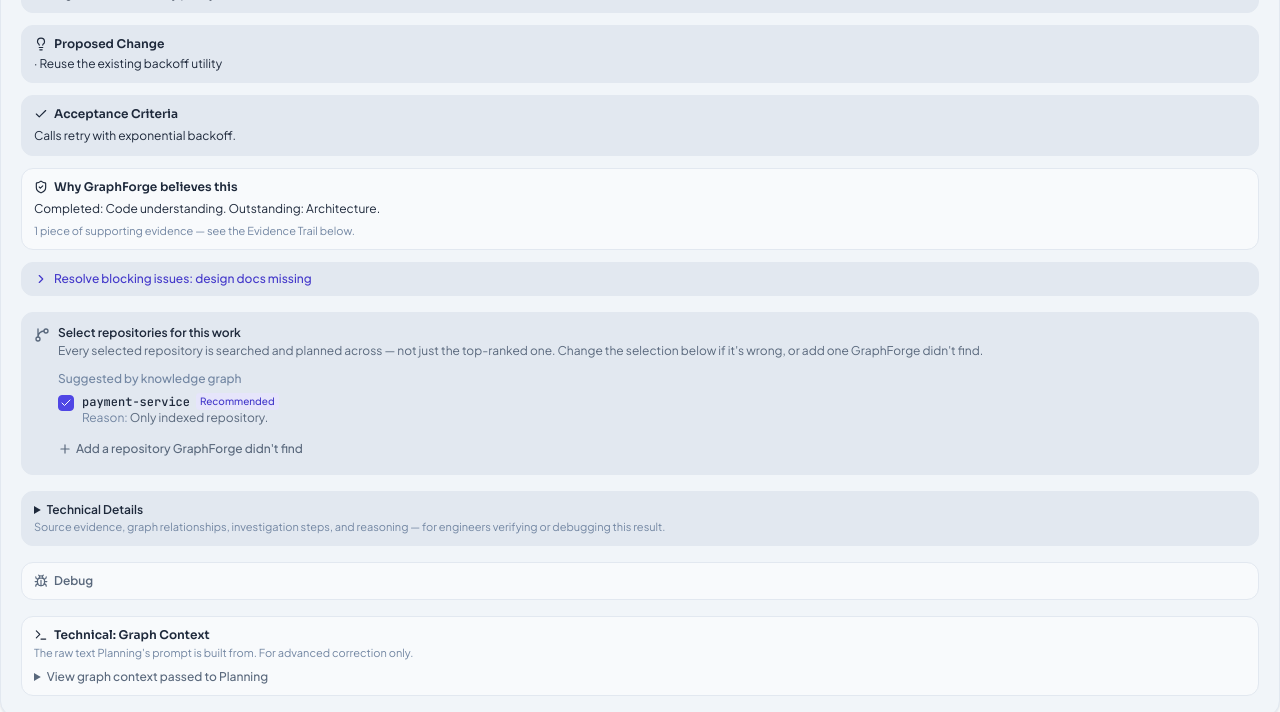
Test case: ContextExplorerPanel › shows the investigation trail inside Debug
(page scrolled)
Click the heading "Debug" at {"x": 64, "y": 580}, box [34,573,93,588]
(page scrolled)
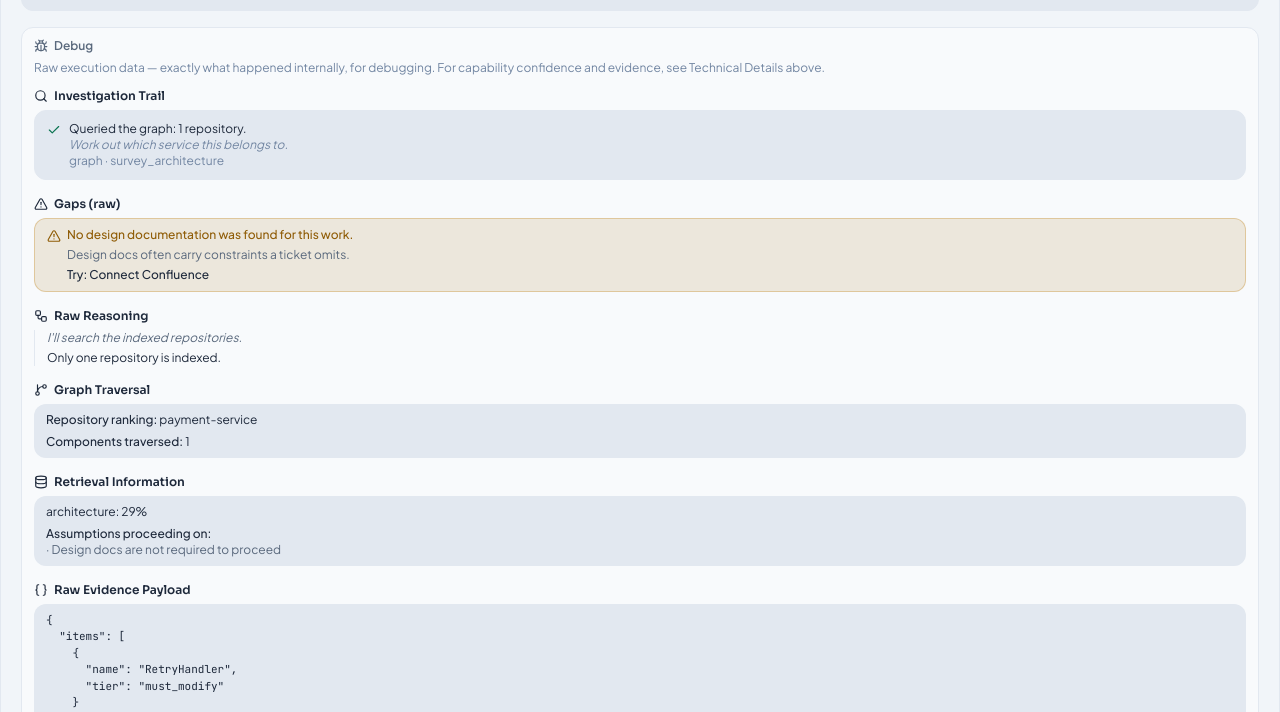
Expected: the text "Work out which service this belongs to." is shown, [69,137,288,153]
Expected: the list item "I'll search the indexed repositories." is shown, [47,330,242,345]
Expected: the list item "Only one repository is indexed." is shown, [47,350,221,365]
